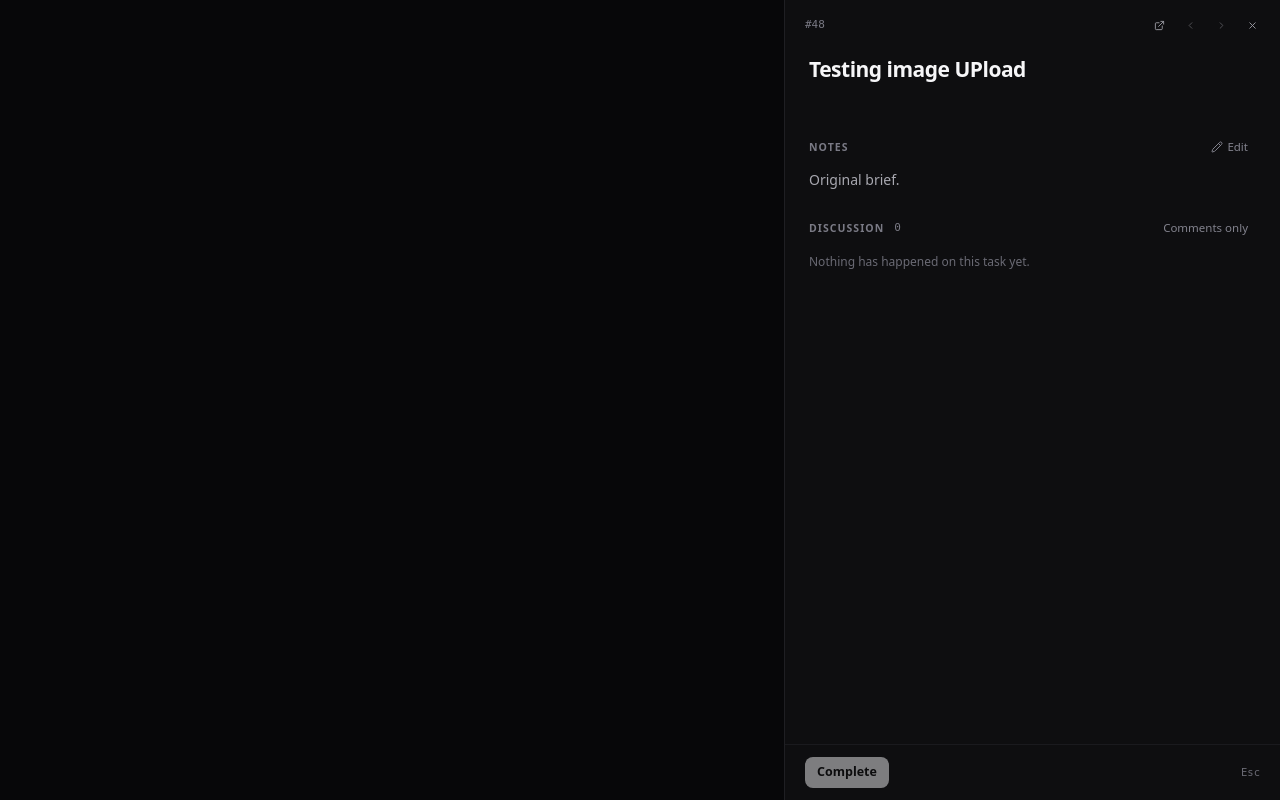
it: TaskDrawer notes › abandons an edit on Escape without closing the drawer
Click the button "Edit" at x=1230, y=147, box [1203,135,1256,159]
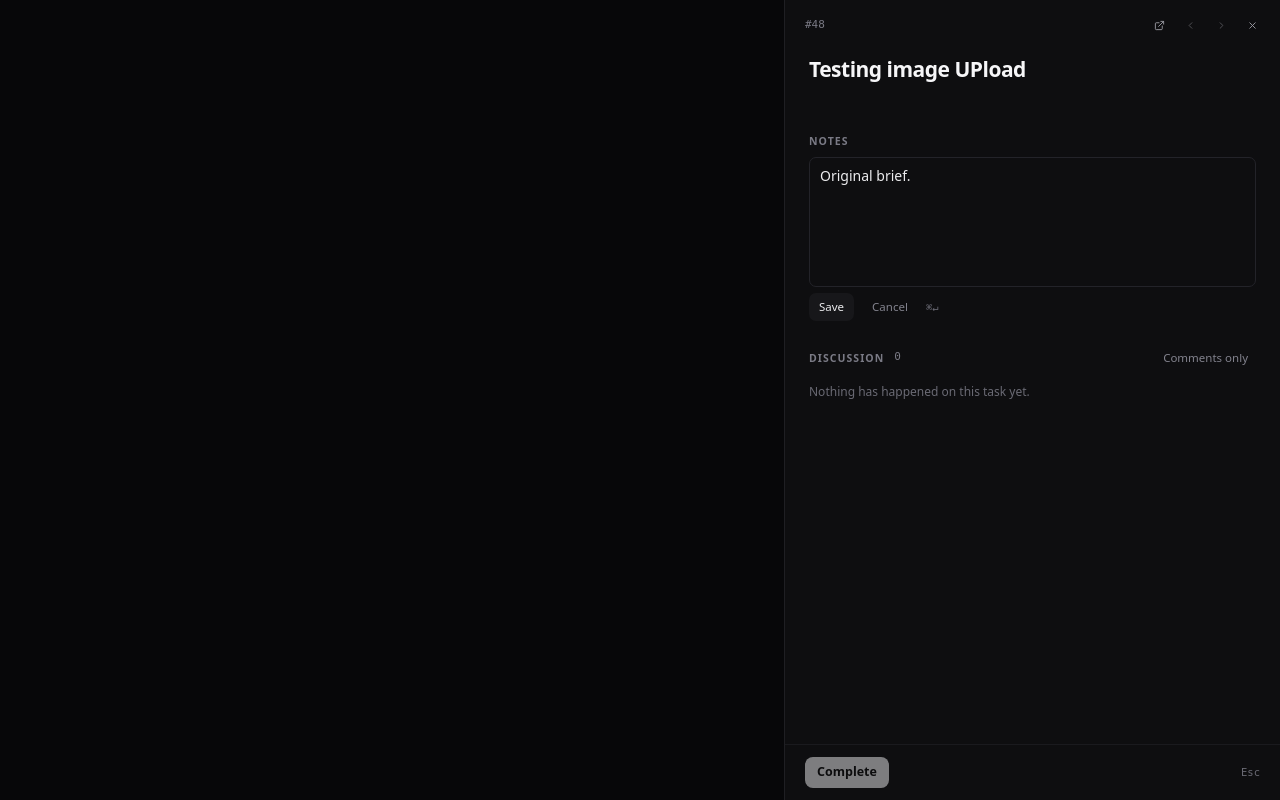
Type " and more" into the text box named "Notes" at x=1032, y=222, box [809,157,1256,287]
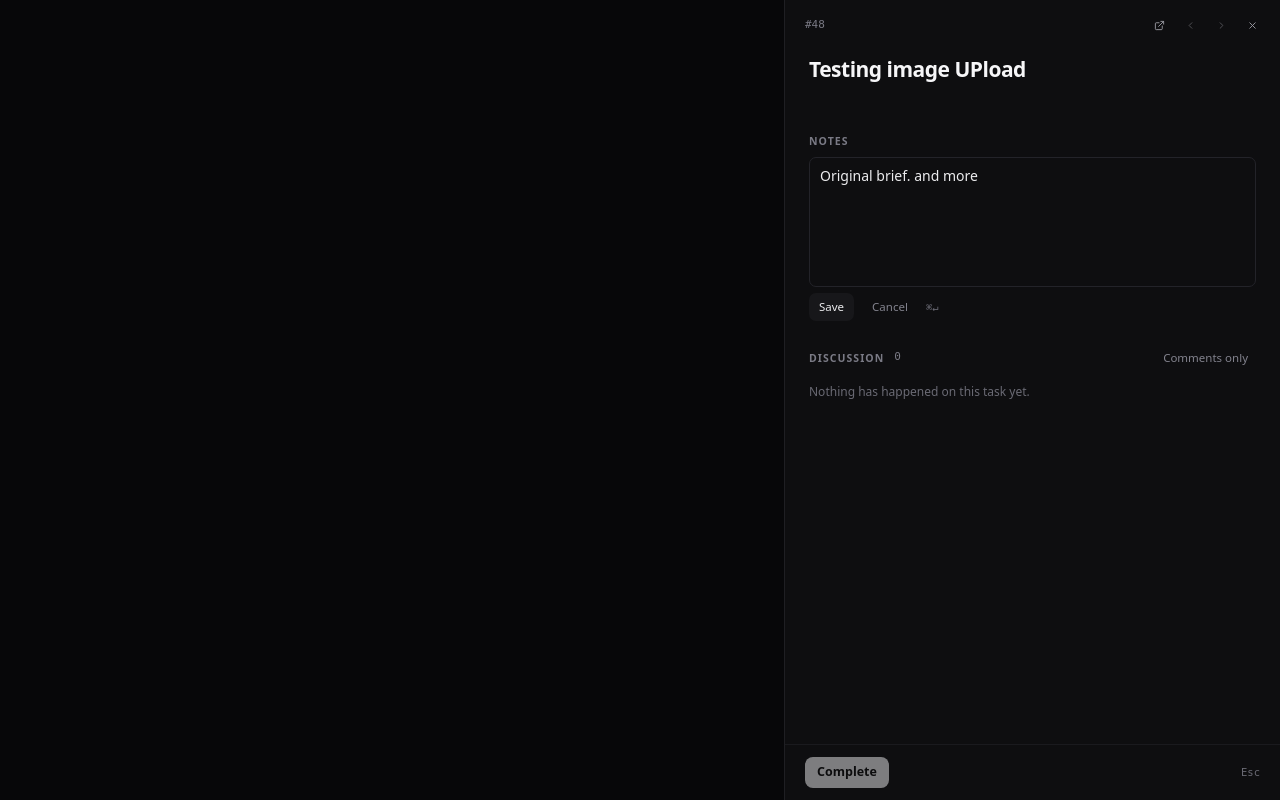
Press Escape
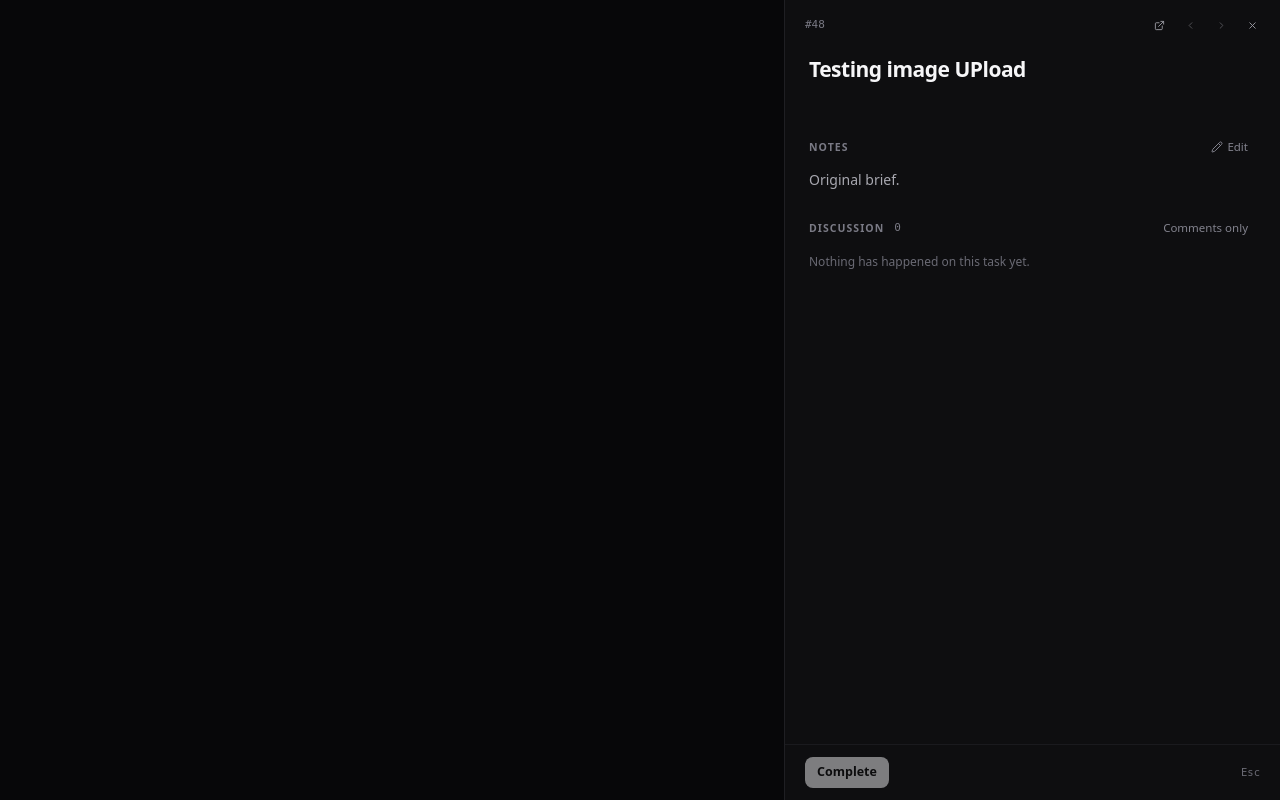
expect the text "Original brief." is shown: met, box [809,170,900,189]
